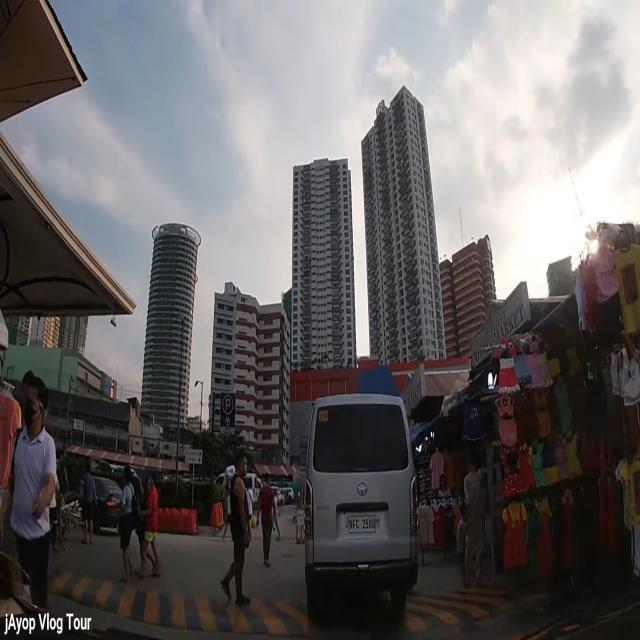car: (305, 395, 418, 625), (88, 476, 125, 536)
